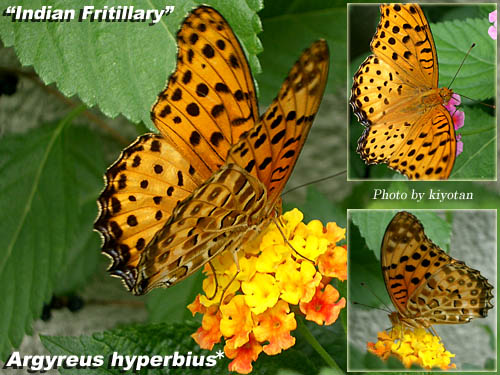Argyreus hyperbius: (92, 1, 348, 304), (348, 1, 495, 177), (350, 207, 498, 347)
butterfly: (94, 3, 350, 306), (350, 2, 497, 179), (352, 209, 500, 349)
